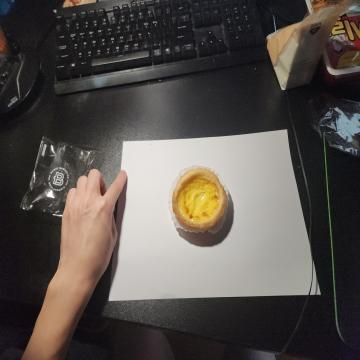EggTart: (171, 165, 227, 232)
